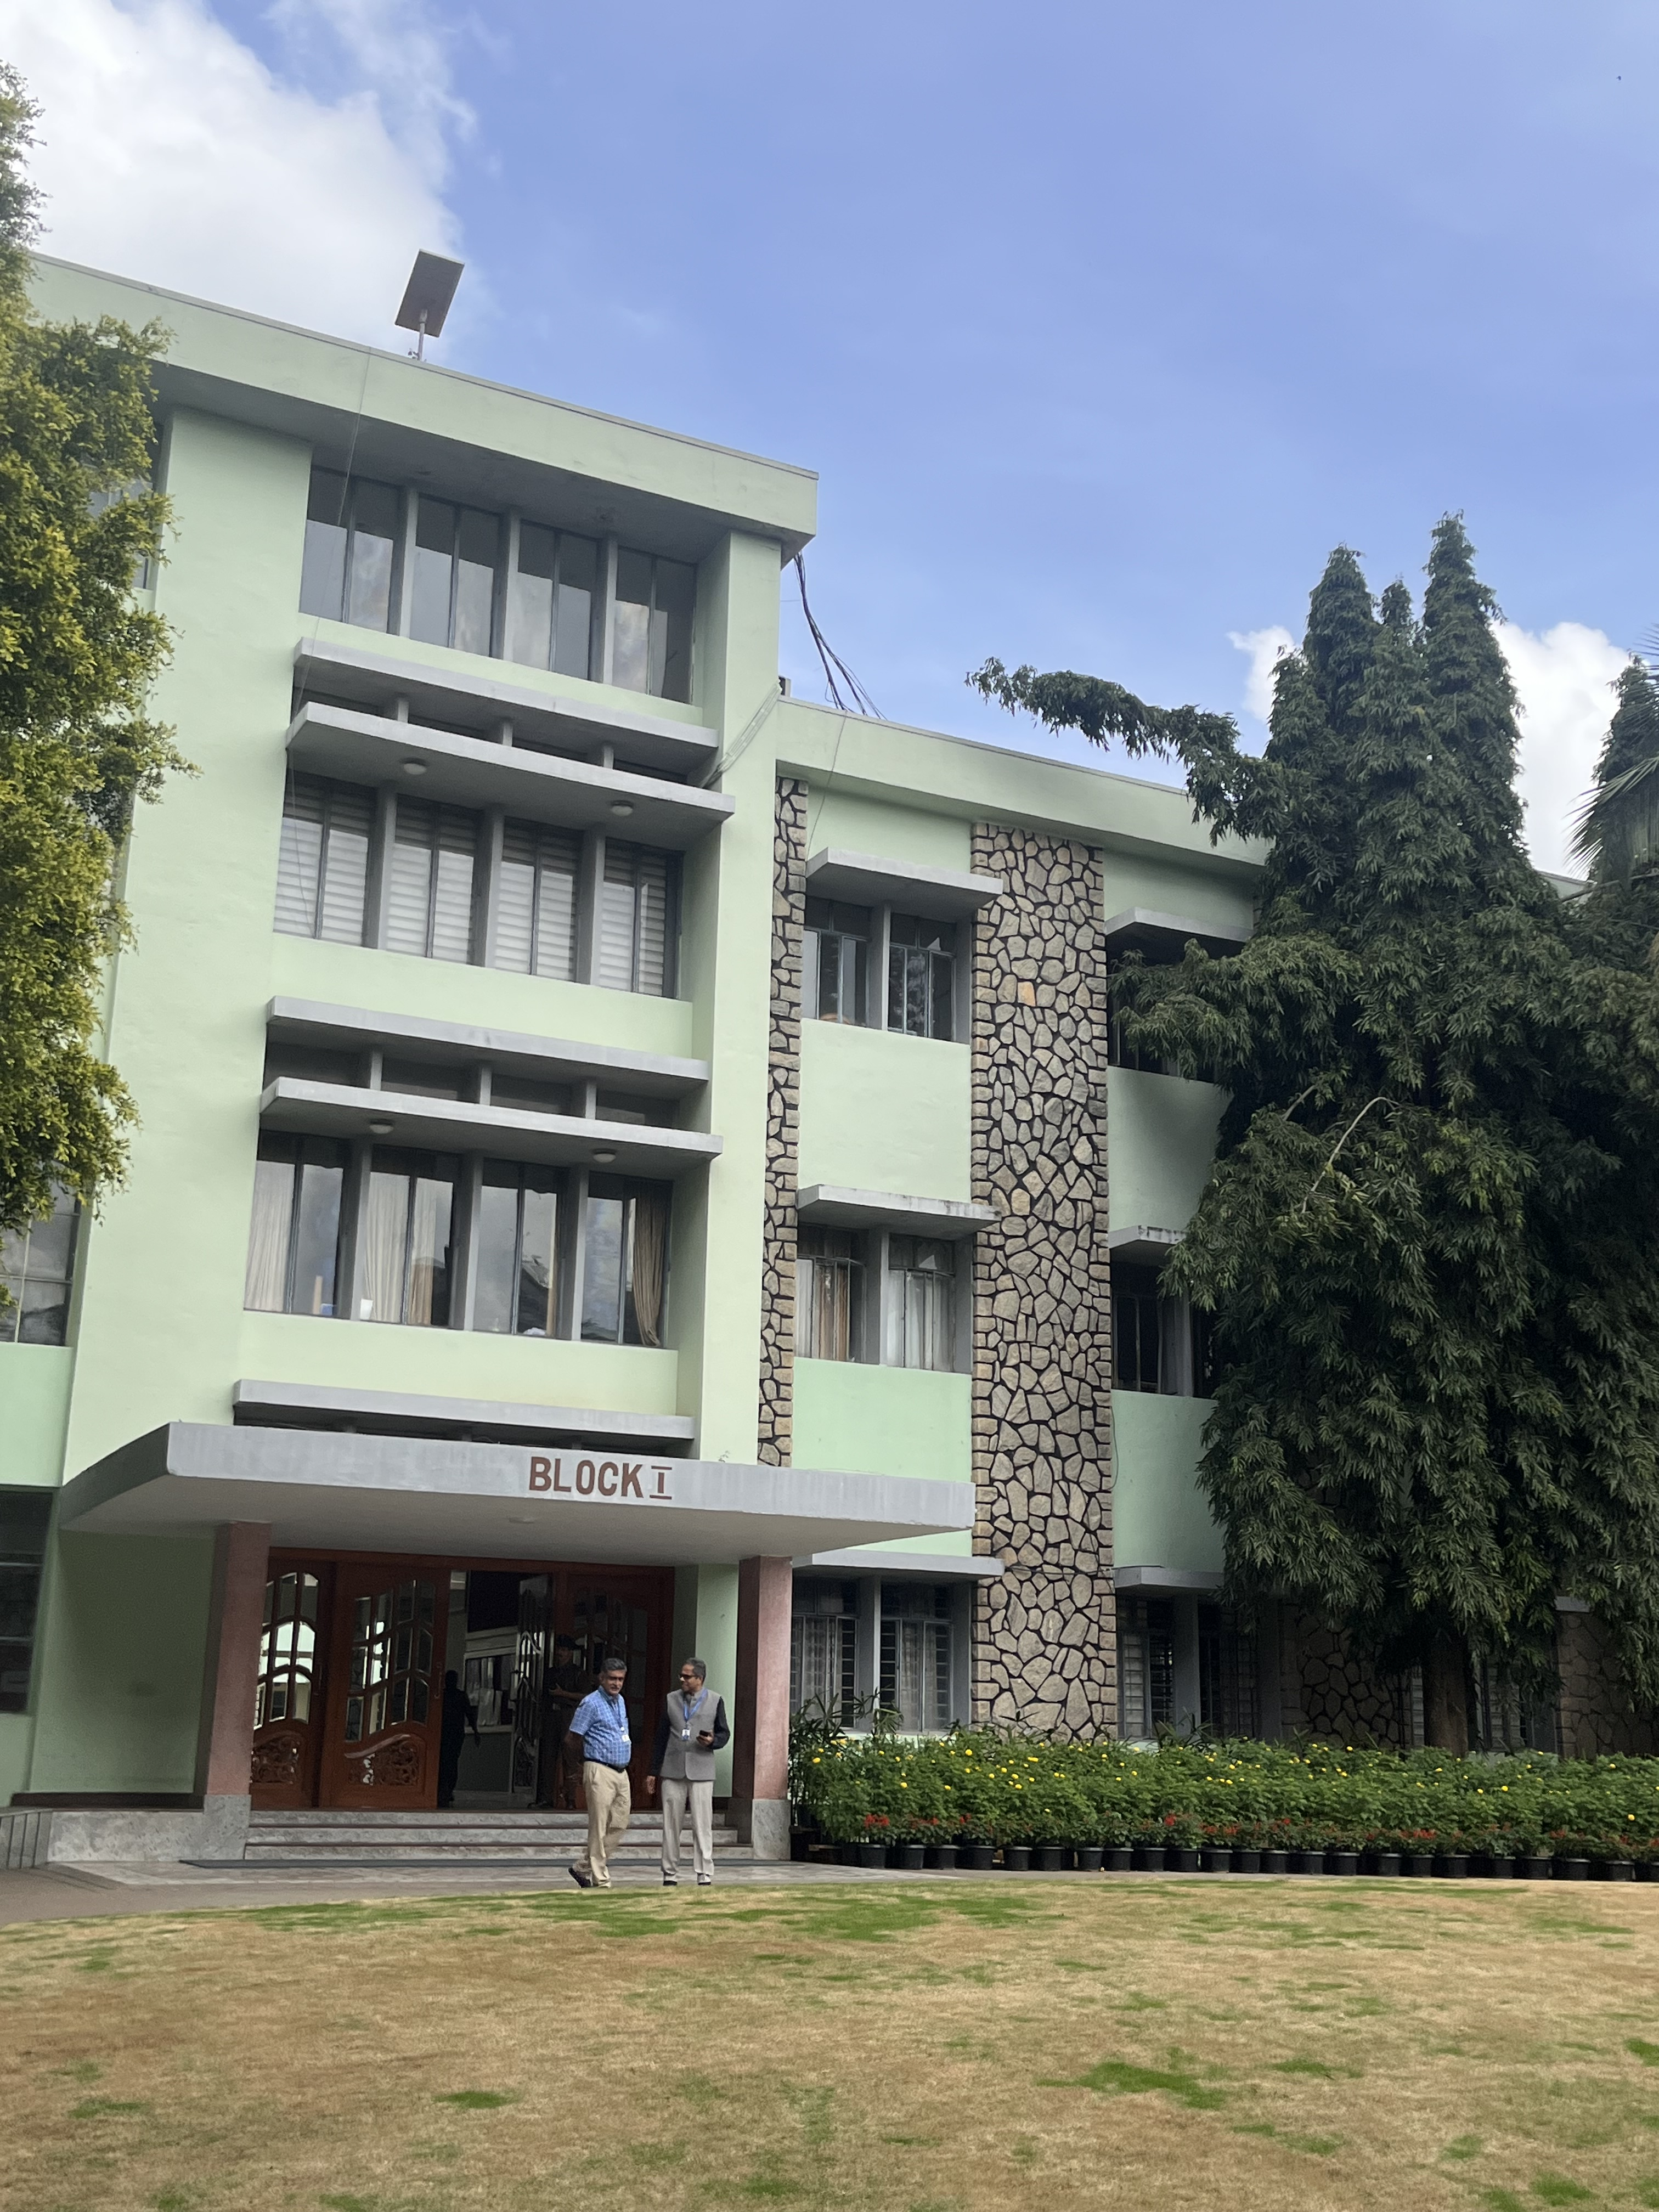Block 1: (150, 218, 1241, 1785)
